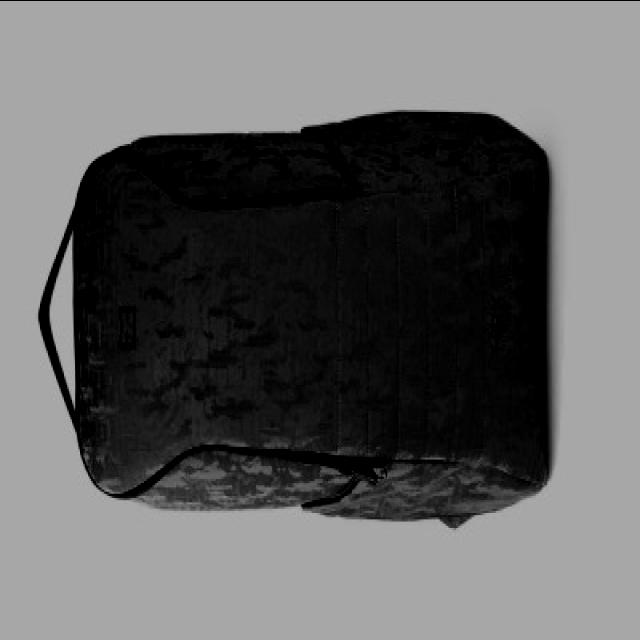backpack: (38, 110, 550, 530)
